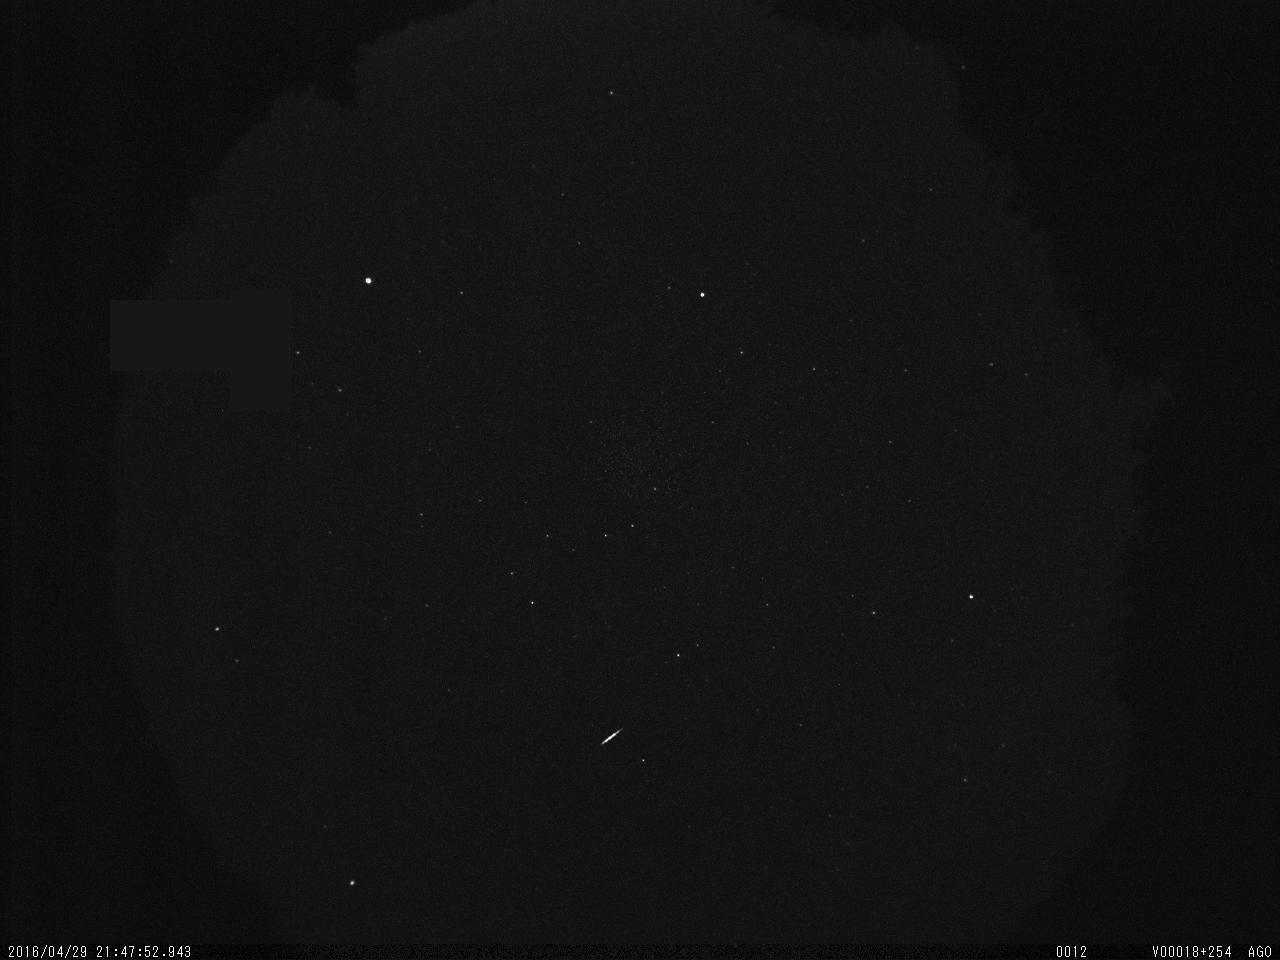Meteor: (592, 720, 634, 753)
